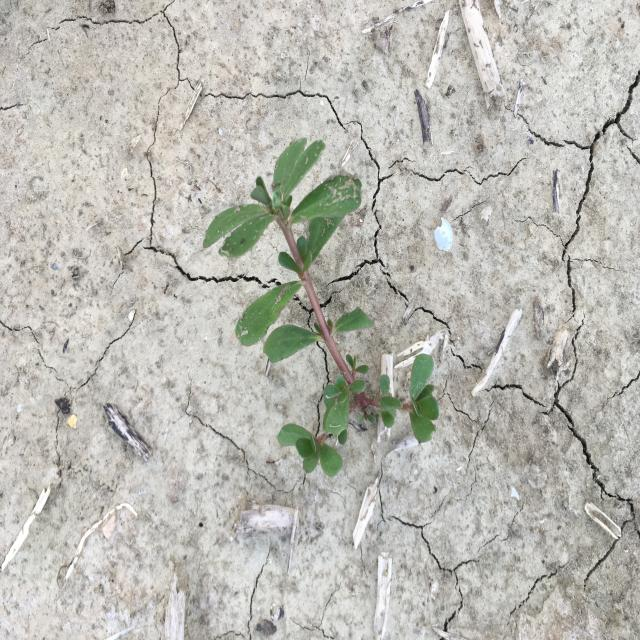Purslane: (202, 136, 441, 479)
